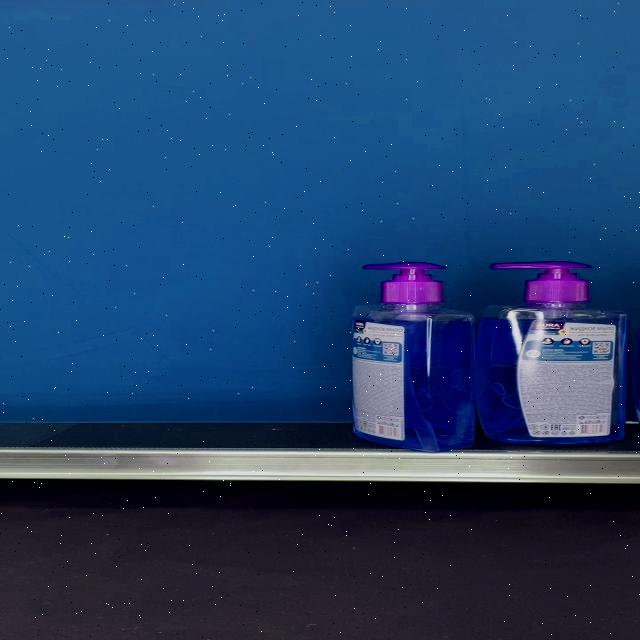Bottle: (477, 262, 626, 444), (352, 262, 476, 451)
Cap: (492, 262, 592, 304), (364, 262, 446, 304)
